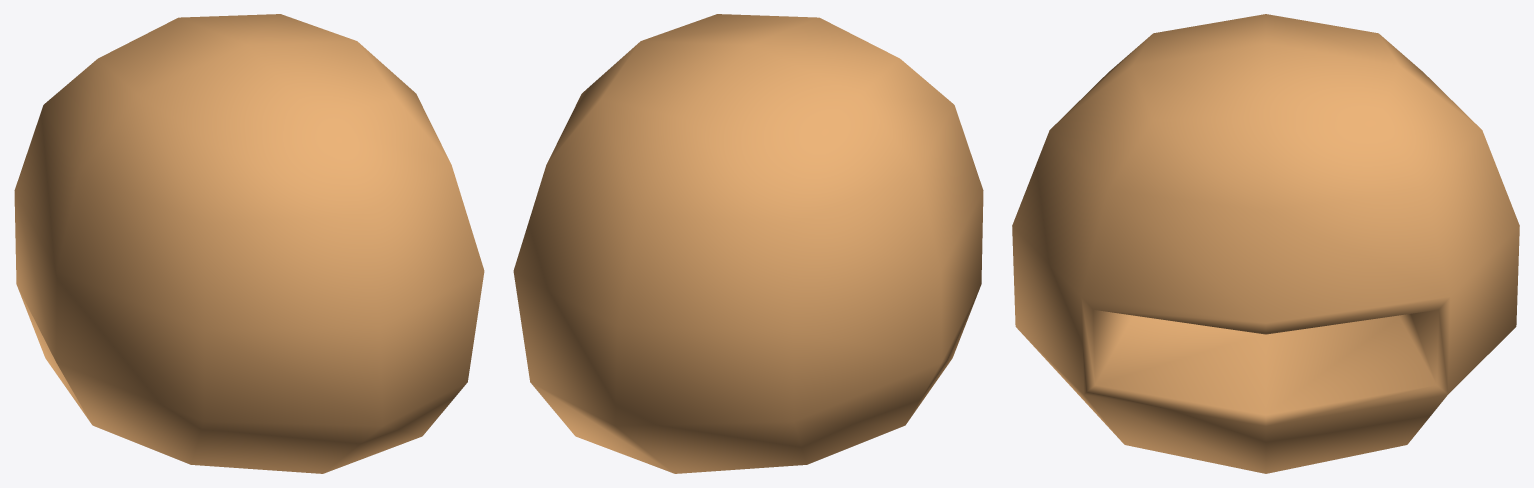
3 views of the same model, side by side, from view 1: azimuth 30°, elevation 25°; view 2: azimuth 150°, elevation 25°; view 3: azimuth 270°, elevation 25° (orthographic). The views are drawn at different scales.
Visible parts, largest first — view 1: Cube; view 2: Cube; view 3: Cube.
Boxes of the visible parts, box(x1,y1,x2,y2) form: Cube: box(14, 14, 484, 473); Cube: box(513, 14, 983, 473); Cube: box(1012, 14, 1519, 473).
Size of the model in its own units: 1.82 by 1.74 by 2.13.
